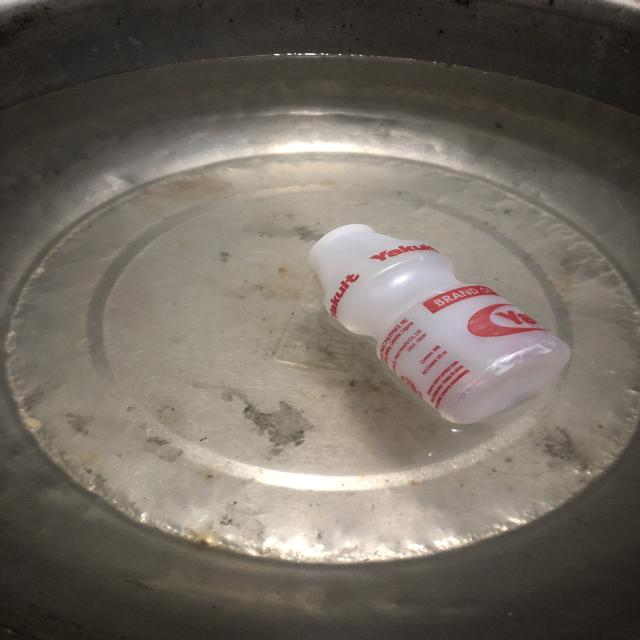Plastic Bottle: (293, 206, 562, 428)
